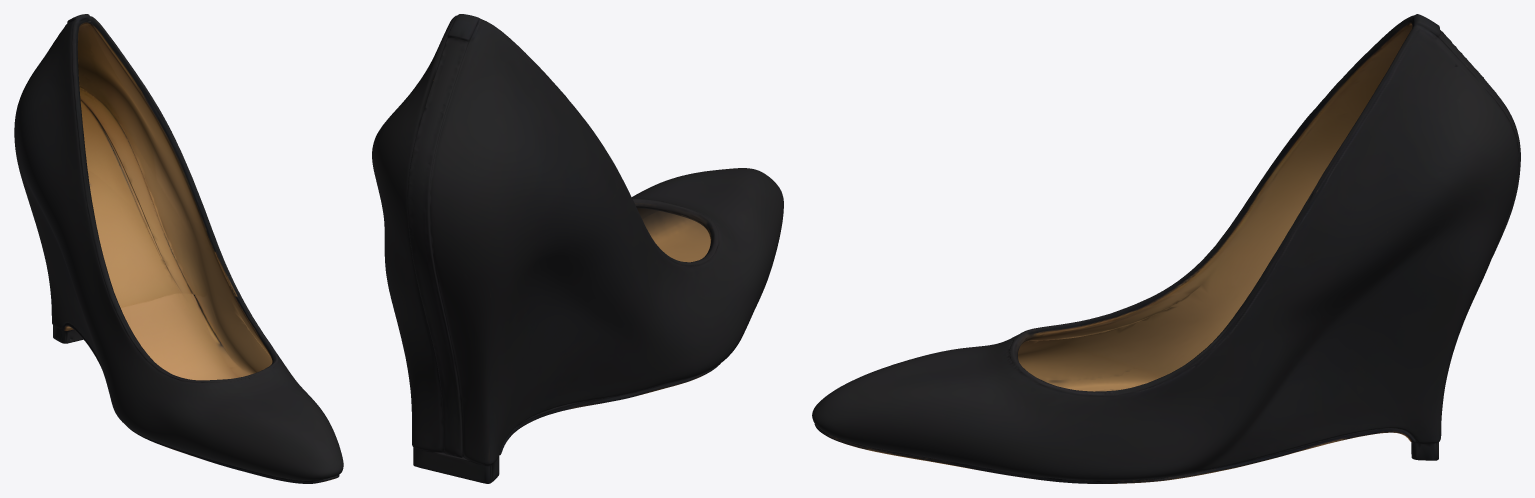
Rendered from heel-less-pump-black.glb.
The picture shows the model from 3 angles, left to right: view 1: azimuth 30°, elevation 25°; view 2: azimuth 150°, elevation 25°; view 3: azimuth 270°, elevation 25°; orthographic projection. The views are drawn at different scales.
Visible parts, largest first — view 1: node_0; view 2: node_0; view 3: node_0.
Boxes of the visible parts, x1,y1,x2,y2 form: node_0: (14,14,343,483); node_0: (372,14,783,483); node_0: (812,14,1520,483).
Size of the model in its own units: 0.341 by 0.6915 by 1.05.
1 material, 1 textured.
